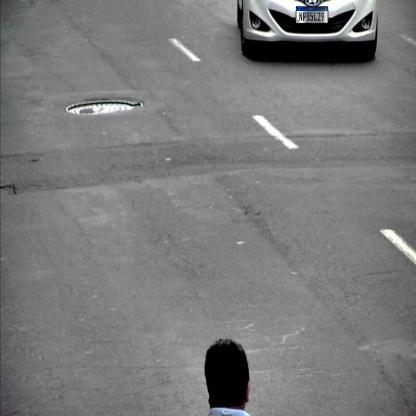PlacaM: (296, 6, 328, 24)
